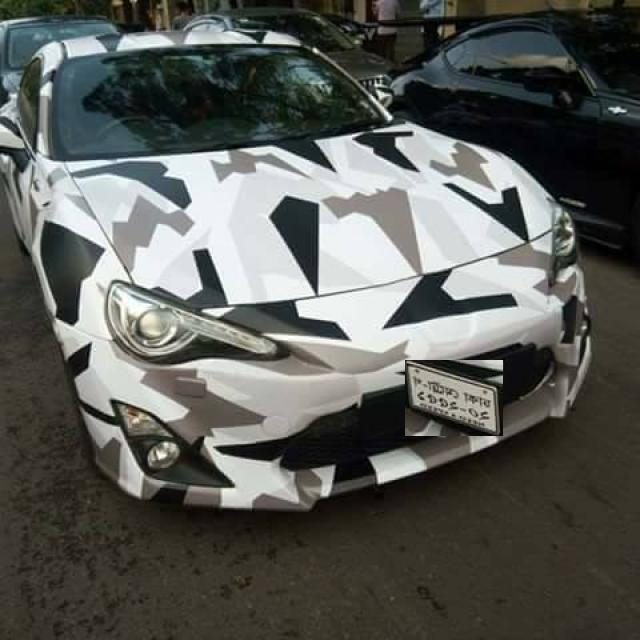numberplate: (405, 360, 503, 436)
